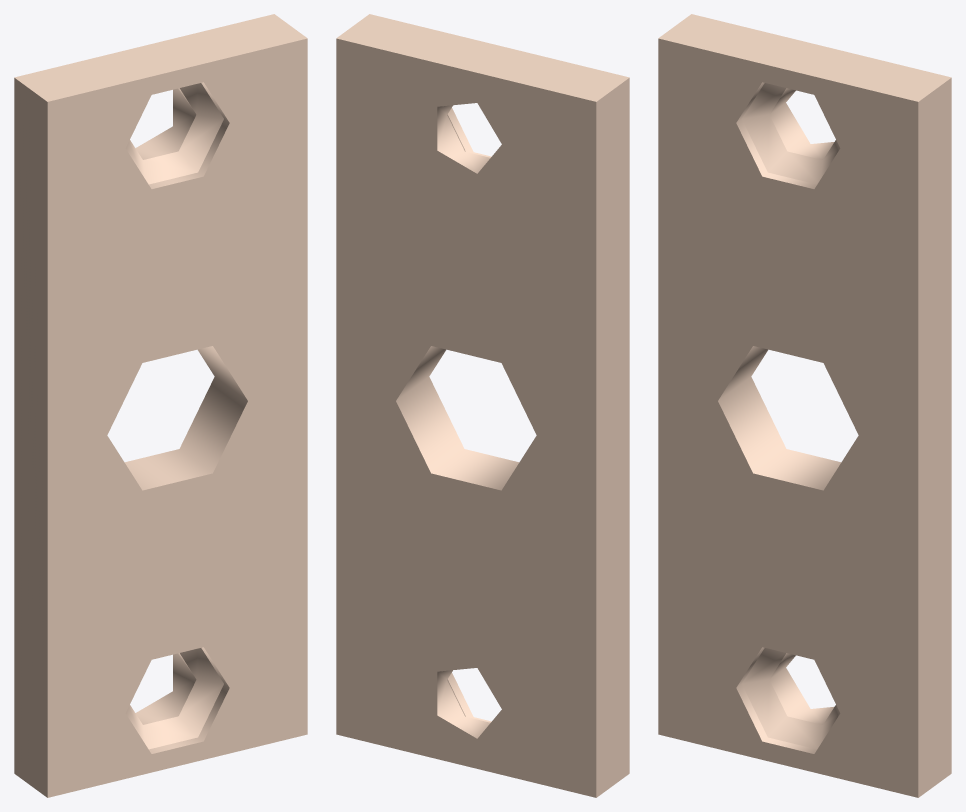
The model's file is Pont Echappement - Plaque.obj.
3 renders of one model, left to right at view 1: azimuth 30°, elevation 25°; view 2: azimuth 150°, elevation 25°; view 3: azimuth 330°, elevation 25°, orthographic.
Parts seen in each view (by area): view 1: Face_3, Face_7, Face_6, Face_9, Face_12, Face_13, Face_1, Face_2, Face_10, Face_11; view 2: Face_4, Face_7, Face_6, Face_9, Face_2, Face_1; view 3: Face_3, Face_5, Face_6, Face_9, Face_12, Face_13, Face_2, Face_1, Face_10, Face_11.
Part boxes in pixels (x1,y1,x2,y2): Face_3: (47, 38, 307, 797); Face_7: (14, 78, 47, 797); Face_6: (14, 14, 307, 101); Face_9: (124, 346, 247, 490); Face_12: (125, 83, 223, 184); Face_13: (125, 648, 223, 749); Face_1: (135, 88, 196, 159); Face_2: (135, 653, 196, 724); Face_10: (149, 647, 229, 753); Face_11: (149, 82, 229, 188); Face_4: (336, 38, 596, 797); Face_7: (596, 78, 629, 797); Face_6: (336, 14, 629, 101); Face_9: (396, 346, 519, 490); Face_2: (437, 670, 490, 738); Face_1: (437, 105, 490, 173); Face_3: (658, 38, 918, 797); Face_5: (918, 78, 951, 797); Face_6: (658, 14, 951, 101); Face_9: (718, 346, 841, 490); Face_12: (742, 83, 840, 184); Face_13: (742, 648, 840, 749); Face_2: (769, 653, 834, 724); Face_1: (769, 88, 834, 159); Face_10: (736, 647, 816, 753); Face_11: (736, 82, 816, 188).
Bounding box in the file's own units: 0.0135 × 0.0345 × 0.003.
